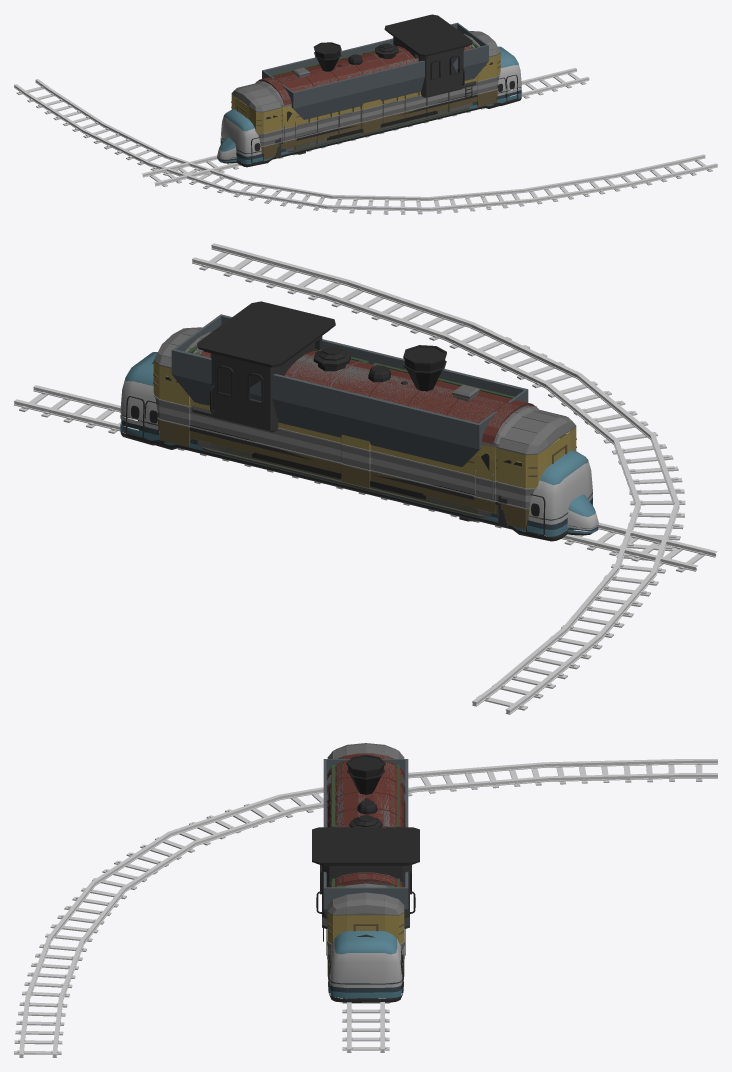
File: trains.glb
The picture shows the model from 3 angles, top to bottom: view 1: azimuth 30°, elevation 25°; view 2: azimuth 150°, elevation 25°; view 3: azimuth 270°, elevation 25°; orthographic projection. The views are drawn at different scales.
Parts seen in each view (by area): view 1: RailwayTrack_Curve, CargoTrain_Wagon, Locomotive_Front, CargoTrain_CoalContainer, Locomotive_PassengerWagon, CargoTrain_WagonOpenContainer, HighSpeed_Wagon, CargoTrain_Front, RailwayTrack_Straight, HighSpeed_Front, Locomotive_Wagon, Locomotive_CoalTender; view 2: RailwayTrack_Curve, CargoTrain_Wagon, Locomotive_Front, CargoTrain_CoalContainer, Locomotive_PassengerWagon, CargoTrain_WagonOpenContainer, HighSpeed_Wagon, CargoTrain_Front, RailwayTrack_Straight, Locomotive_Wagon, HighSpeed_Front, Locomotive_CoalTender; view 3: RailwayTrack_Curve, Locomotive_Front, HighSpeed_Front, Locomotive_PassengerWagon, CargoTrain_Front, CargoTrain_WagonOpenContainer, CargoTrain_Wagon, RailwayTrack_Straight, Locomotive_Wagon, CargoTrain_CoalContainer, CargoTrain_Container.
Part boxes in pixels (x1,y1,x2,y2): RailwayTrack_Curve: (14,79,717,214); CargoTrain_Wagon: (231,31,495,159); Locomotive_Front: (295,14,476,154); CargoTrain_CoalContainer: (262,24,488,157); Locomotive_PassengerWagon: (258,46,470,152); CargoTrain_WagonOpenContainer: (262,22,488,155); HighSpeed_Wagon: (220,68,509,167); CargoTrain_Front: (242,31,500,149); RailwayTrack_Straight: (141,68,589,186); HighSpeed_Front: (217,46,521,163); Locomotive_Wagon: (260,46,472,151); Locomotive_CoalTender: (327,111,437,140); RailwayTrack_Curve: (192,243,685,714); CargoTrain_Wagon: (161,328,576,529); Locomotive_Front: (191,301,476,521); CargoTrain_CoalContainer: (171,316,528,527); Locomotive_PassengerWagon: (200,350,534,517); CargoTrain_WagonOpenContainer: (171,314,528,526); HighSpeed_Wagon: (139,376,592,541); CargoTrain_Front: (153,327,559,513); RailwayTrack_Straight: (14,385,717,572); Locomotive_Wagon: (197,351,531,517); HighSpeed_Front: (120,352,598,535); Locomotive_CoalTender: (252,452,425,499); RailwayTrack_Curve: (14,759,717,1057); Locomotive_Front: (312,754,419,941); HighSpeed_Front: (328,931,403,1002); Locomotive_PassengerWagon: (326,753,405,955); CargoTrain_Front: (326,775,405,976); CargoTrain_WagonOpenContainer: (323,759,408,908); CargoTrain_Wagon: (326,743,405,957); RailwayTrack_Straight: (342,998,389,1052); Locomotive_Wagon: (328,753,402,886); CargoTrain_CoalContainer: (323,760,408,919); CargoTrain_Container: (332,765,399,887).
Size of the model in its own units: 18.63 by 3.58 by 18.64.
